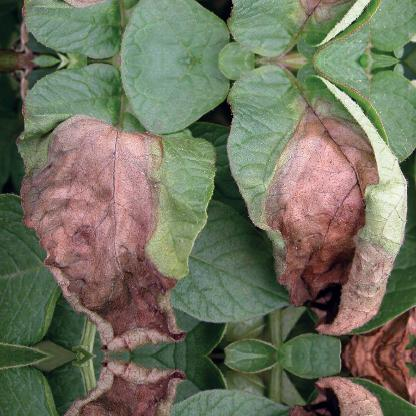Late-Blight: (14, 71, 216, 354), (236, 68, 412, 340), (13, 355, 216, 416)
